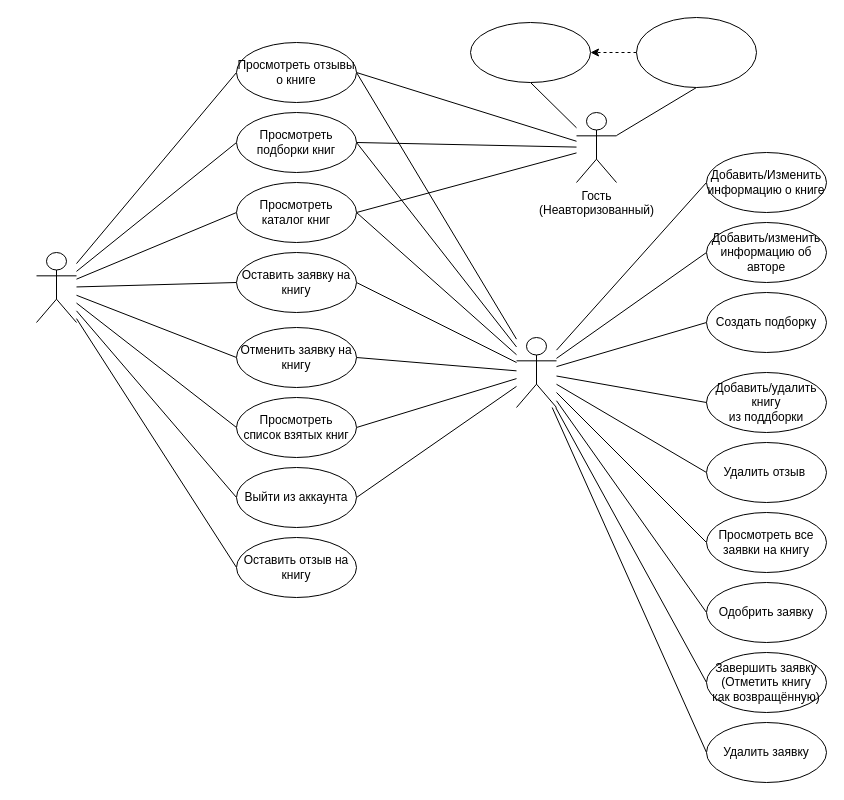
Some shapes in this 844 by 800 pixel diagram are drawn without their labels. The centre of each missing label's shape, as x and y in pixels:
Авторизоваться: the point at 530,52
Администратор (библиотекарь): the point at 536,372
Зарегистрироваться: the point at 696,52
Пользователь (посетитель): the point at 56,287
